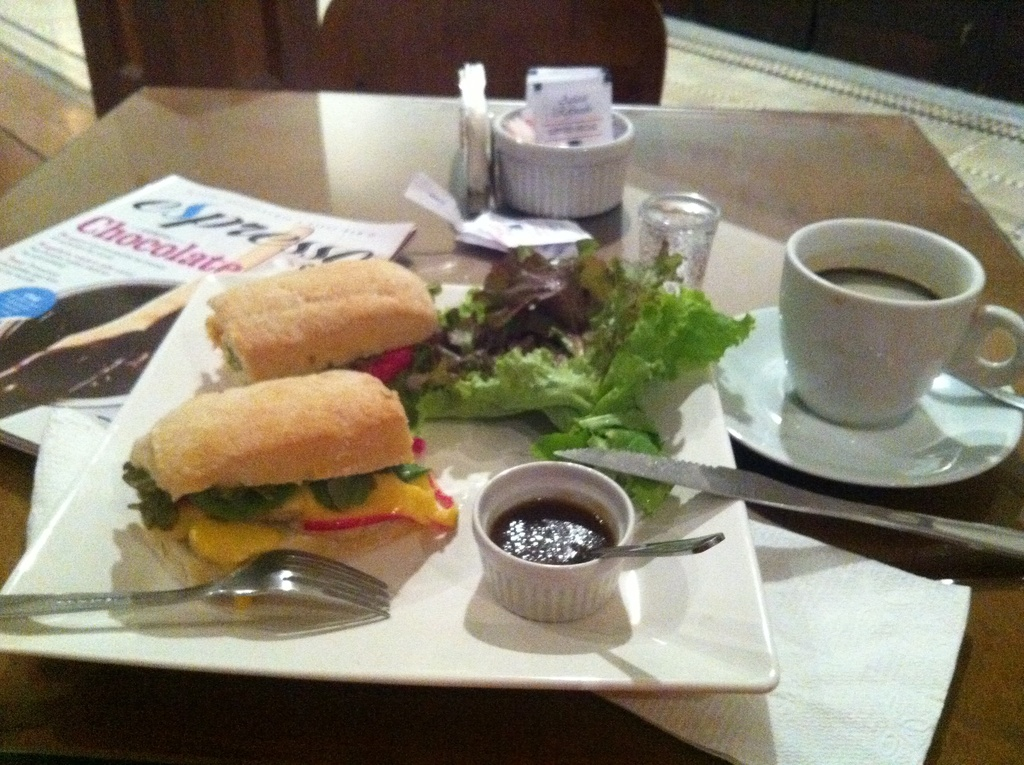Hamburger: (122, 367, 459, 571), (205, 255, 437, 382)
